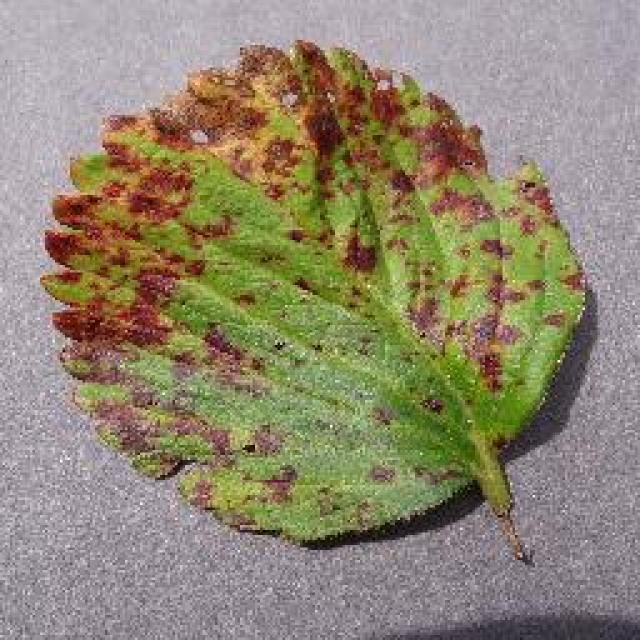Strawberry leaf scorch: (116, 115, 482, 462)
